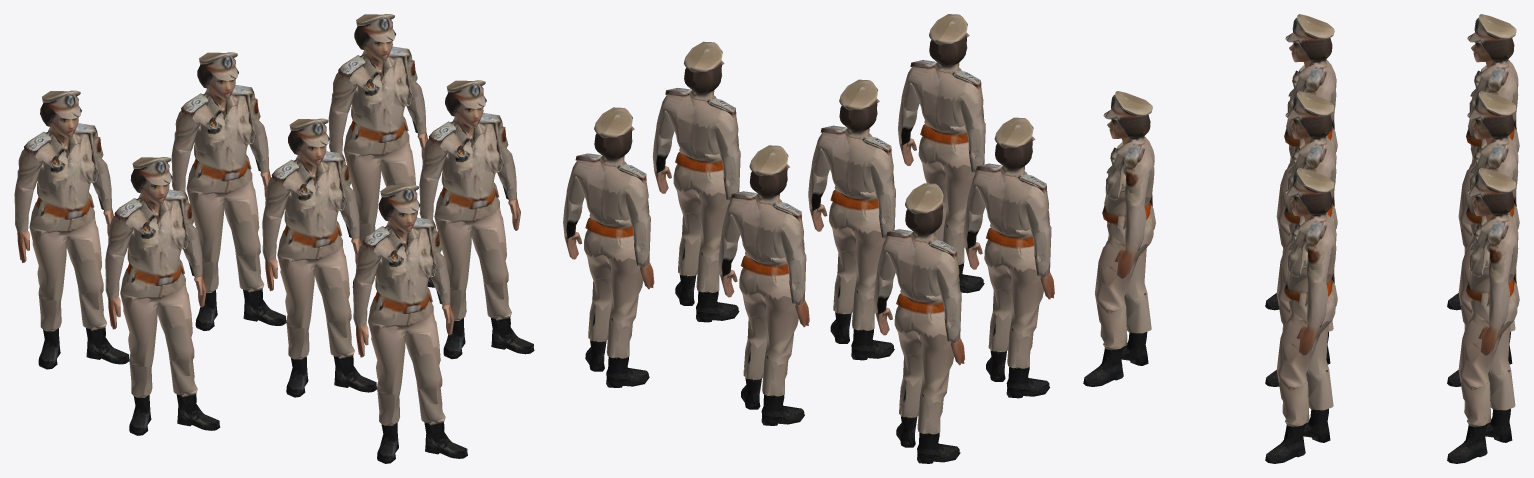
The model's file is parade_india_idle_lod2.glb.
The picture shows the model from 3 angles, left to right: view 1: azimuth 30°, elevation 25°; view 2: azimuth 150°, elevation 25°; view 3: azimuth 270°, elevation 25°; orthographic projection.
Parts seen in each view (by area): view 1: tripo_node_661625e5-55dd-40d3-a4f2-95a83a8b770f; view 2: tripo_node_661625e5-55dd-40d3-a4f2-95a83a8b770f; view 3: tripo_node_661625e5-55dd-40d3-a4f2-95a83a8b770f.
Part boxes in pixels (box(x1,y1,x2,y2)): tripo_node_661625e5-55dd-40d3-a4f2-95a83a8b770f: box(14, 14, 534, 463); tripo_node_661625e5-55dd-40d3-a4f2-95a83a8b770f: box(563, 14, 1054, 463); tripo_node_661625e5-55dd-40d3-a4f2-95a83a8b770f: box(1083, 14, 1519, 463).
Size of the model in its own units: 1.55 by 0.9891 by 1.44.
Materials: 1 (1 with a texture image).
